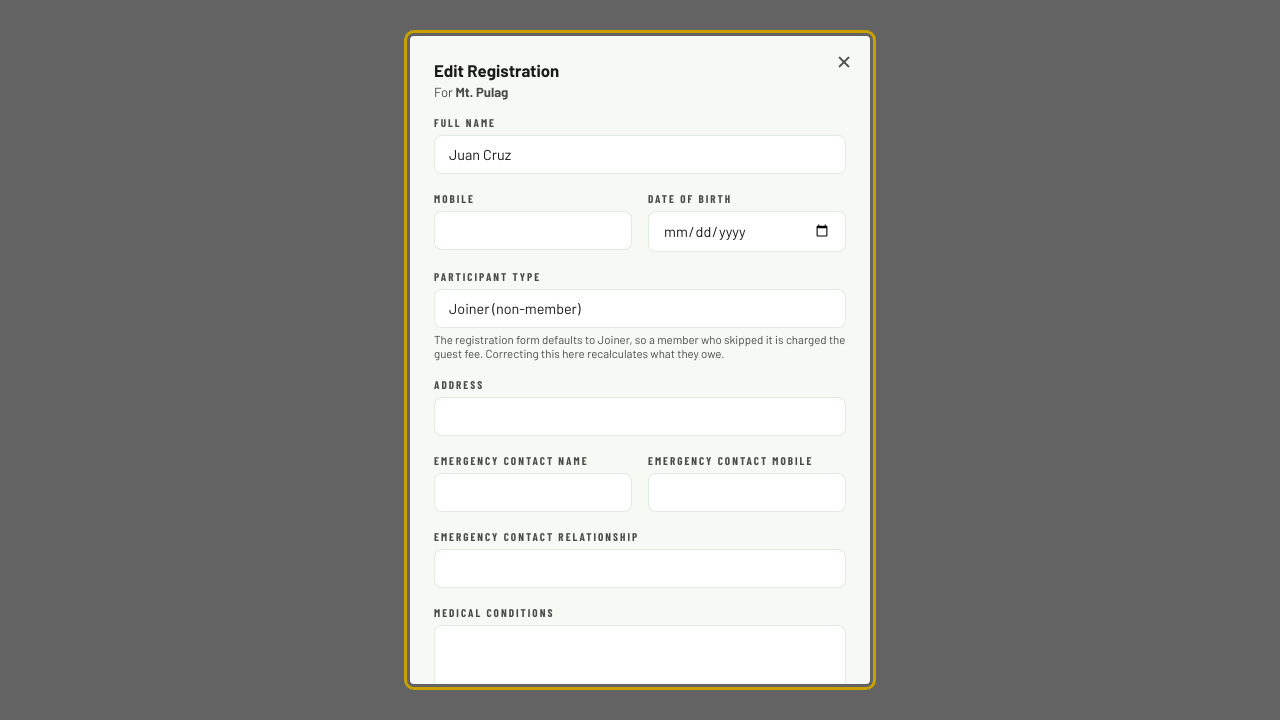
Test: EditRegistrationModal — participant type › warns what the correction does to the money before saving
This screenshot has width=1280, height=720.
Select "MMS Member" in the dropdown: (640, 308) x1=434 y1=289 x2=846 y2=328
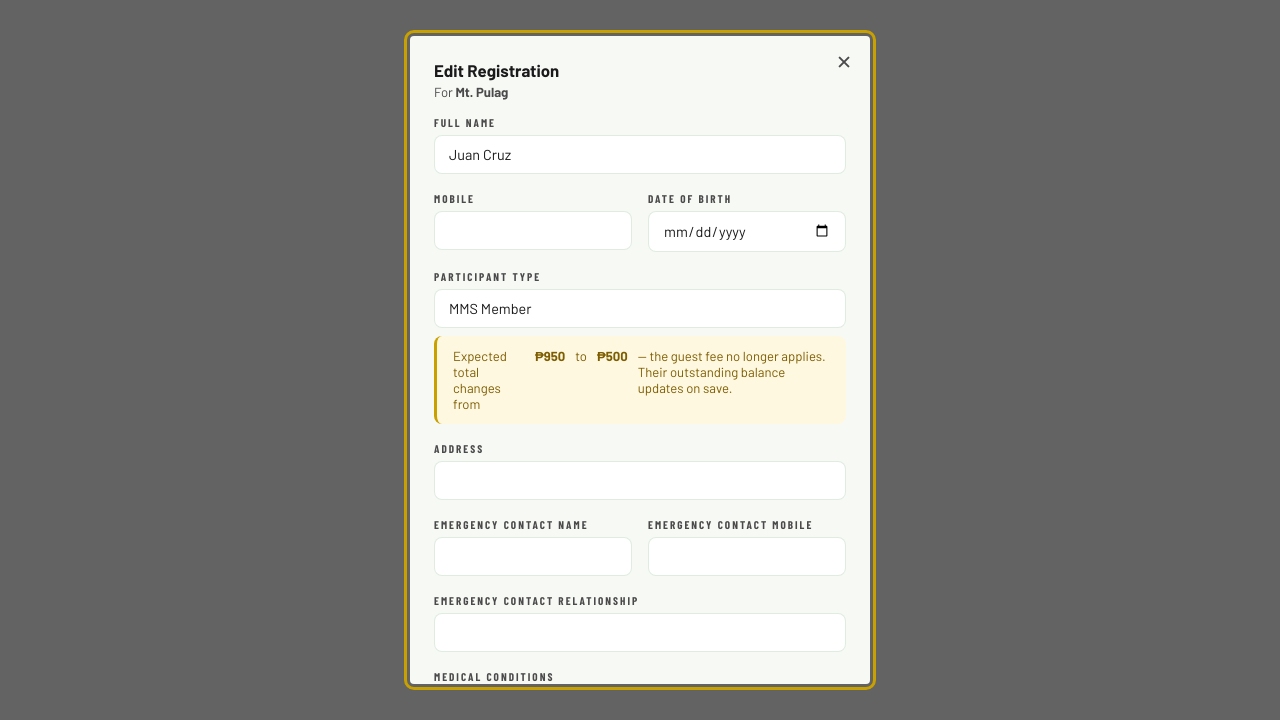
expect the text "₱950" is shown: met, box x1=535 y1=348 x2=565 y2=364
expect the text "₱500" is shown: met, box x1=597 y1=348 x2=628 y2=364
expect the text "guest fee no longer applies" is shown: met, box x1=638 y1=348 x2=826 y2=364
